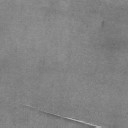finishing roll printing: (64, 116, 104, 128), (41, 110, 61, 119), (24, 103, 34, 109)
